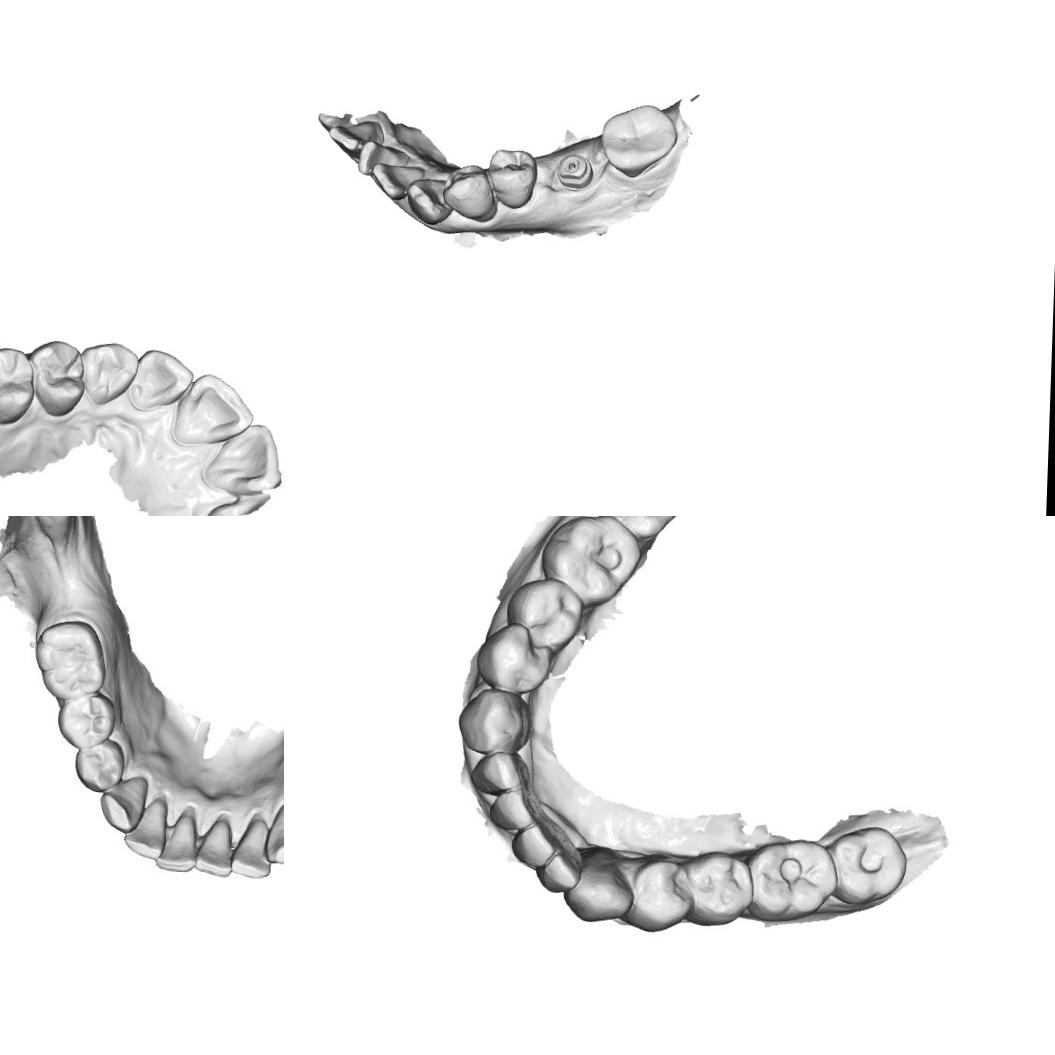canine: (564, 849, 636, 925), (456, 686, 534, 756), (79, 338, 137, 408), (100, 777, 148, 836), (404, 176, 451, 226), (263, 799, 284, 866)
implant_minus: (555, 150, 595, 190)
incisor: (173, 370, 255, 444), (200, 420, 282, 494), (128, 344, 190, 412), (484, 789, 544, 836), (470, 750, 528, 798), (232, 813, 272, 881), (154, 810, 196, 874), (126, 795, 166, 858), (196, 813, 234, 879), (510, 822, 562, 869), (356, 138, 414, 179), (370, 161, 426, 203), (538, 849, 578, 895), (326, 118, 377, 154)
molar: (537, 516, 644, 608), (748, 835, 837, 924), (826, 826, 910, 911), (598, 101, 681, 180), (31, 618, 109, 701), (588, 516, 688, 541)
premolar: (506, 574, 586, 654), (476, 622, 554, 696), (682, 849, 752, 928), (628, 856, 691, 933), (30, 336, 86, 418), (54, 692, 118, 750), (484, 146, 540, 212), (440, 163, 496, 220), (72, 737, 128, 794), (0, 344, 35, 427)
